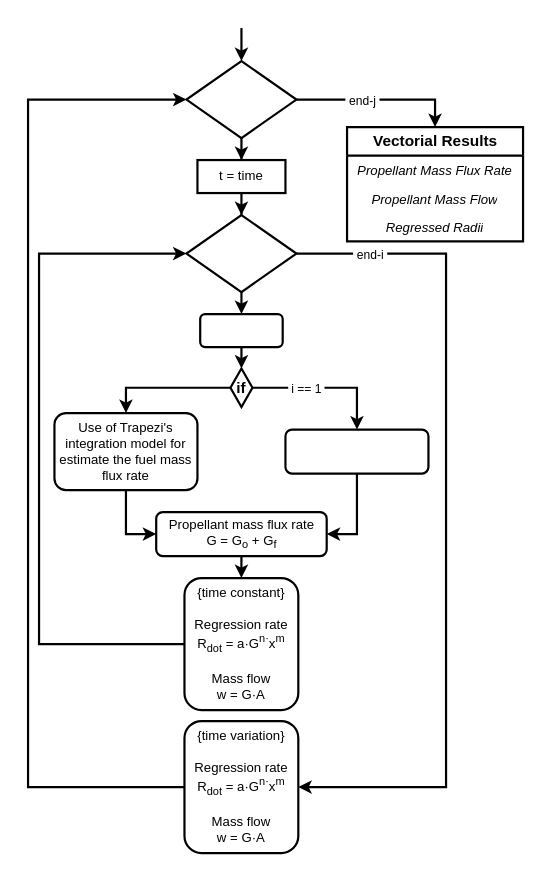
The diagram is 542 pixels wide and 872 high, and some of its shapes have lost their labels. Here are the shapes that lost their labels. From the top down, the centre of each, then its label:
pixel 241 99: for-j {time}
pixel 241 253: for-i {space}
pixel 241 330: x = space
pixel 356 451: Fuel mass flux rate NULL
